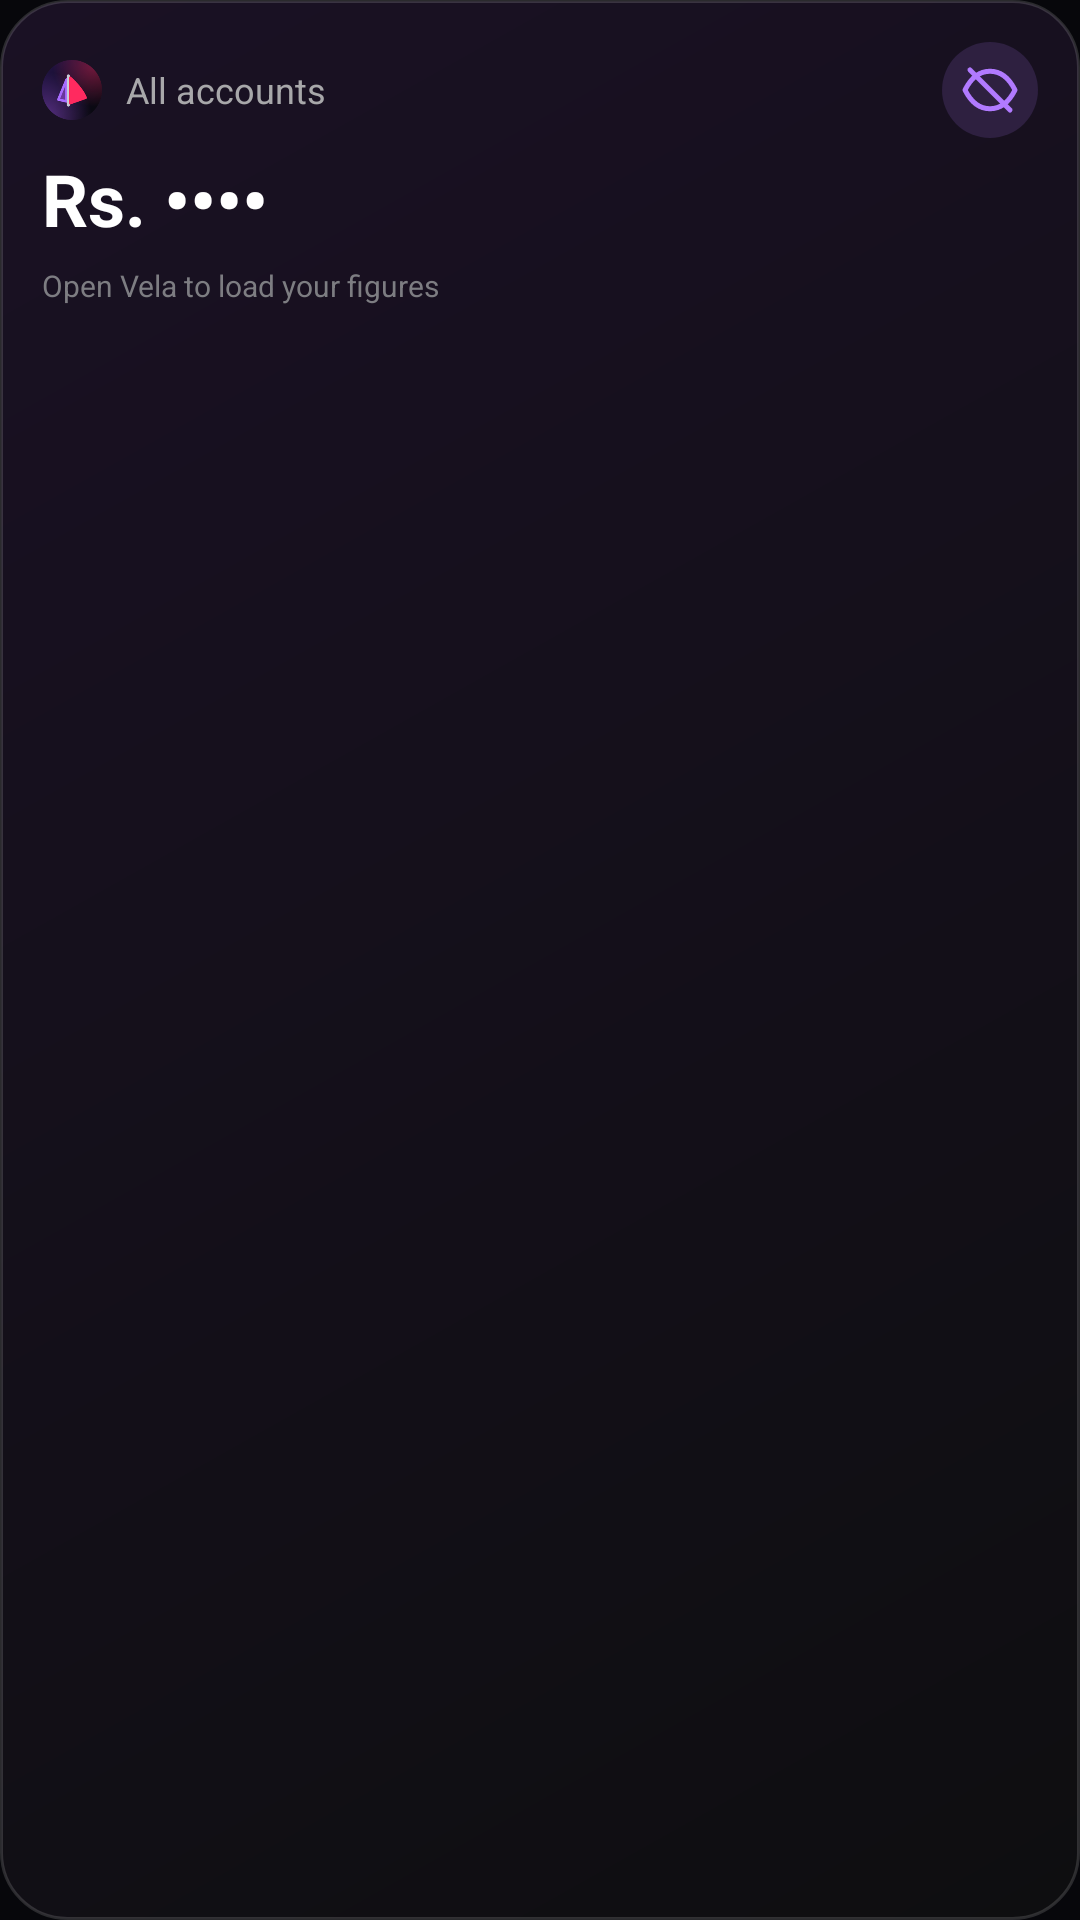

Locate icon controls on the screen. Image size 1080×1920, boxes as [x1=x1, y1=y1, x2=x2, y2=y2].
Show amounts: [x1=942, y1=42, x2=1038, y2=138]
